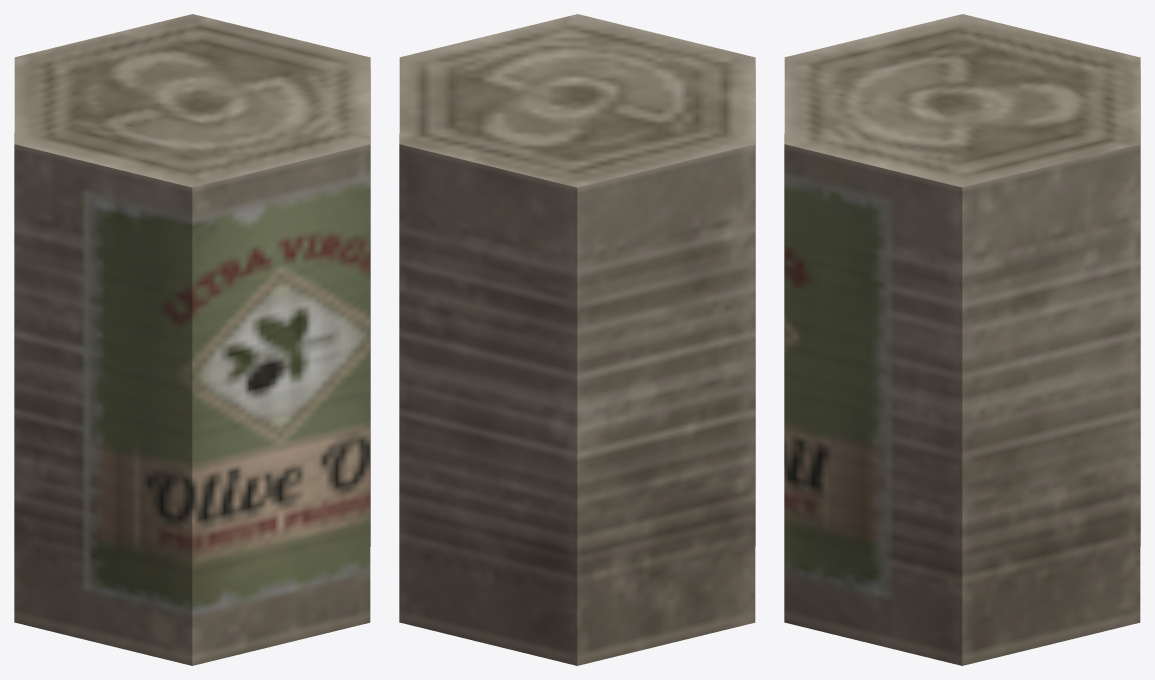
Rendered from Can_2.fbx.
3 views of the same model, side by side, from view 1: azimuth 30°, elevation 25°; view 2: azimuth 150°, elevation 25°; view 3: azimuth 270°, elevation 25° (orthographic).
Parts seen in each view (by area): view 1: Can_2; view 2: Can_2; view 3: Can_2.
Part boxes in pixels (x1,y1,x2,y2): Can_2: (14, 14, 370, 665); Can_2: (399, 14, 755, 665); Can_2: (784, 14, 1140, 665).
Size of the model in its own units: 12.19 by 15.65 by 10.56.
